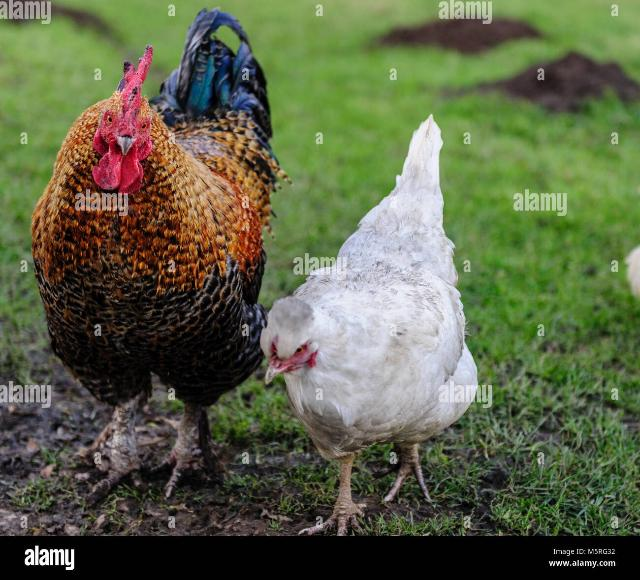Chicken: (31, 6, 278, 489), (260, 116, 477, 534)
